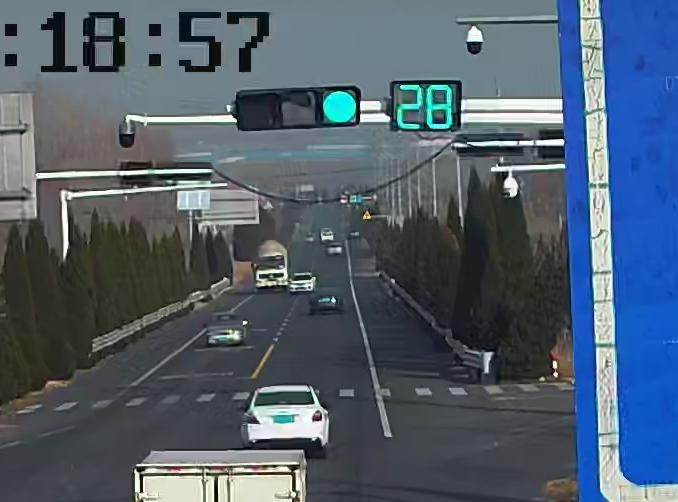green: (320, 90, 360, 125)
greentime: (394, 80, 455, 131)
